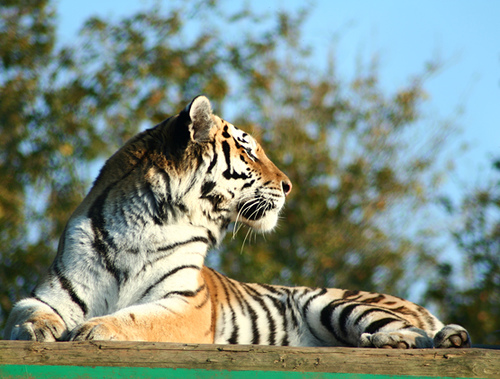Tigre: (60, 107, 461, 367)
